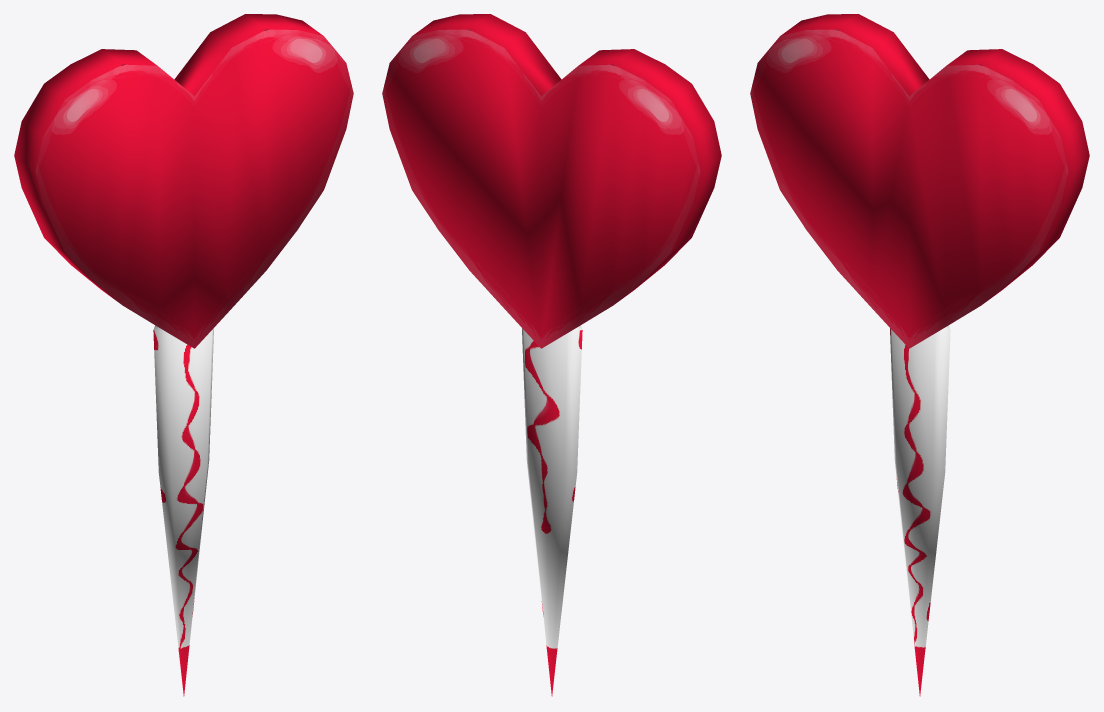
The model's file is Pirulistaca.fbx.
3 renders of one model, left to right at view 1: azimuth 30°, elevation 25°; view 2: azimuth 150°, elevation 25°; view 3: azimuth 330°, elevation 25°, orthographic.
Visible parts, largest first — view 1: Spike; view 2: Spike; view 3: Spike.
Boxes of the visible parts, x1,y1,x2,y2 form: Spike: (14,14,353,696); Spike: (382,14,721,696); Spike: (750,14,1089,696).
Size of the model in its own units: 54.32 by 107 by 6.31.
Materials: 1 (1 with a texture image).
